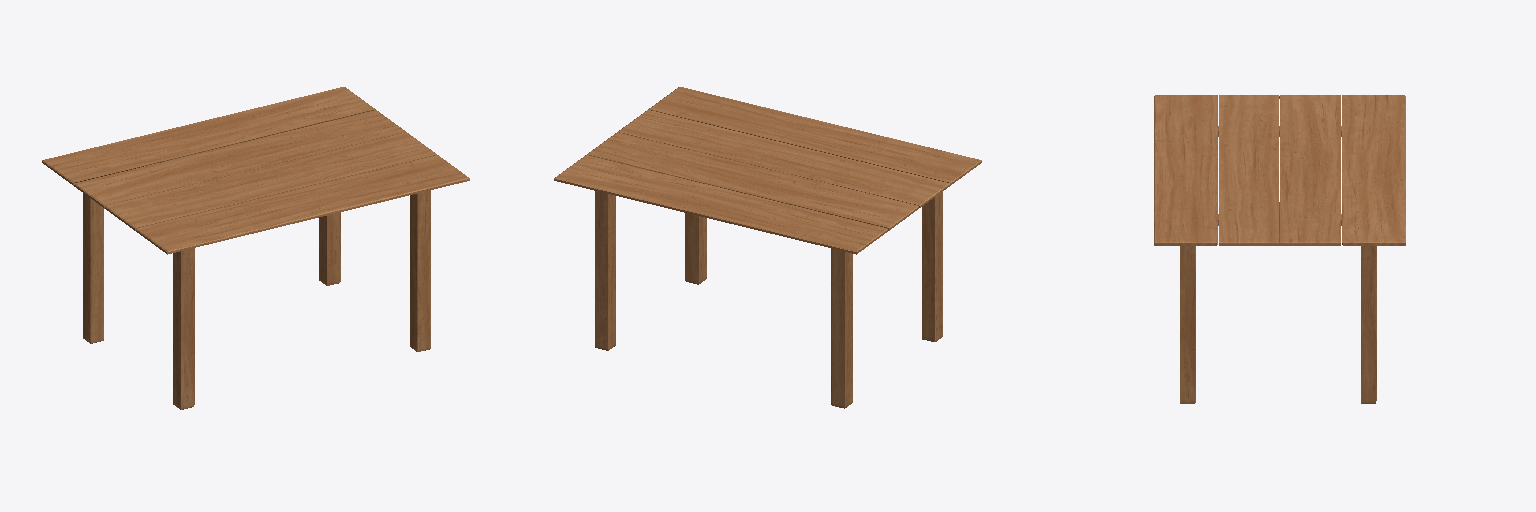
The picture shows the model from 3 angles: view 1: azimuth 30°, elevation 25°; view 2: azimuth 150°, elevation 25°; view 3: azimuth 270°, elevation 25°; orthographic projection.
Parts seen in each view (by area): view 1: Cube.003, Cube.005_Cube.013, Cube.002_Cube.001, Cube.006_Cube.012, Cube.007_Cube.011; view 2: Cube.003, Cube.002_Cube.001, Cube.005_Cube.013, Cube.007_Cube.011, Cube.006_Cube.012; view 3: Cube.002_Cube.001, Cube.005_Cube.013, Cube.007_Cube.011, Cube.006_Cube.012, Cube.003.
Boxes of the visible parts, x1,y1,x2,y2 form: Cube.003: [83, 190, 430, 409]; Cube.005_Cube.013: [136, 155, 469, 254]; Cube.002_Cube.001: [42, 87, 375, 185]; Cube.006_Cube.012: [105, 132, 436, 230]; Cube.007_Cube.011: [74, 110, 405, 208]; Cube.003: [595, 191, 942, 408]; Cube.002_Cube.001: [554, 155, 887, 254]; Cube.005_Cube.013: [648, 87, 981, 185]; Cube.007_Cube.011: [587, 132, 918, 230]; Cube.006_Cube.012: [618, 110, 949, 207]; Cube.002_Cube.001: [1342, 95, 1405, 245]; Cube.005_Cube.013: [1154, 95, 1217, 245]; Cube.007_Cube.011: [1280, 95, 1340, 245]; Cube.006_Cube.012: [1219, 95, 1279, 245]; Cube.003: [1180, 246, 1376, 403].
Size of the model in its own units: 10.98 by 6.03 by 7.88.
Materials: 6 (1 with a texture image).